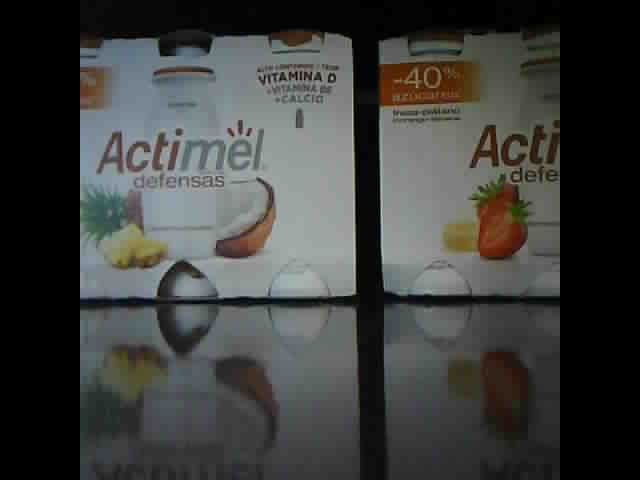actimel: (80, 28, 356, 304), (377, 30, 561, 299)
